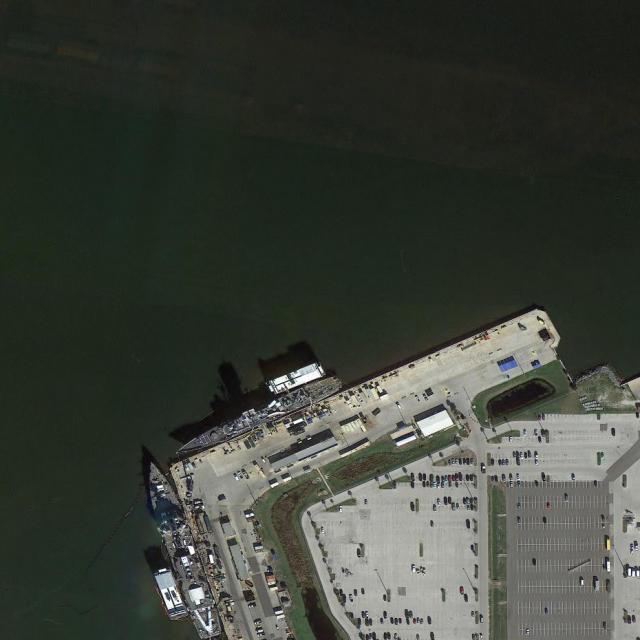Frigate: (170, 374, 345, 459)
Other Warship: (138, 456, 225, 639)
